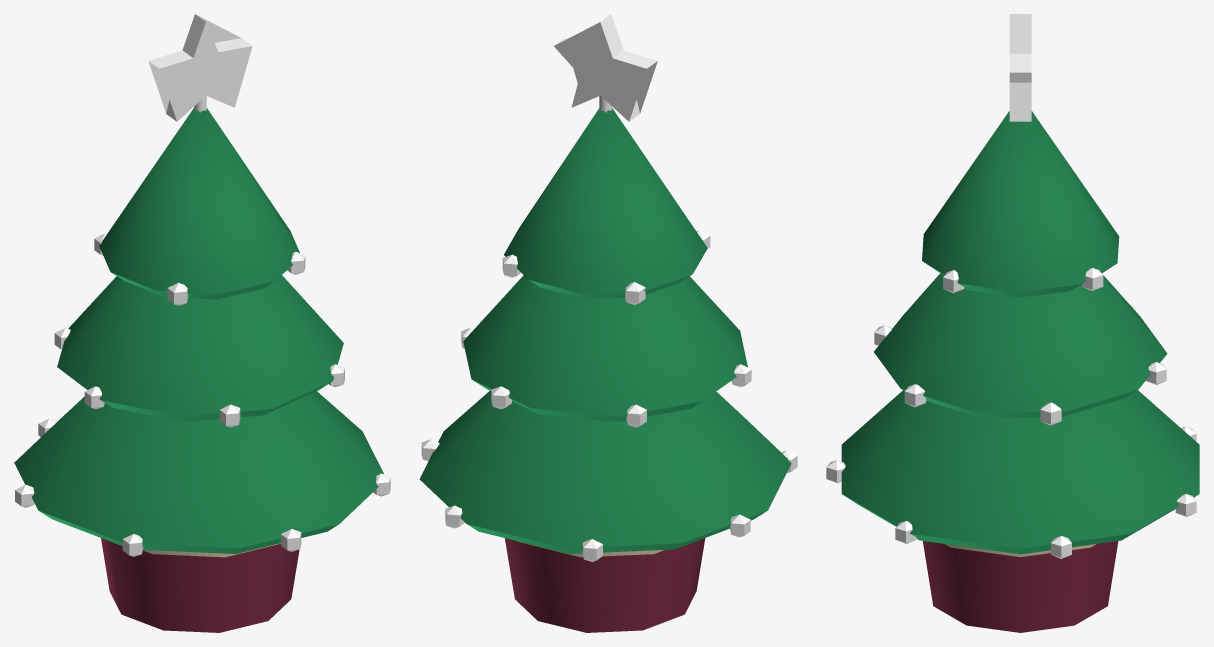
Rendered from Xmas_Tree.fbx.
3 renders of one model, left to right at view 1: azimuth 30°, elevation 25°; view 2: azimuth 150°, elevation 25°; view 3: azimuth 270°, elevation 25°, orthographic.
Visible parts, largest first — view 1: Xmas_Tree, Xmas_Tree_Lights; view 2: Xmas_Tree, Xmas_Tree_Lights; view 3: Xmas_Tree, Xmas_Tree_Lights.
Part boxes in pixels (x1,y1,x2,y2): Xmas_Tree: (14, 108, 383, 632); Xmas_Tree_Lights: (15, 14, 390, 556); Xmas_Tree: (419, 108, 791, 632); Xmas_Tree_Lights: (421, 14, 797, 561); Xmas_Tree: (841, 111, 1199, 632); Xmas_Tree_Lights: (826, 14, 1196, 558).
Size of the model in its own units: 4.12 by 6.97 by 4.06.
Materials: 1 (1 with a texture image).
